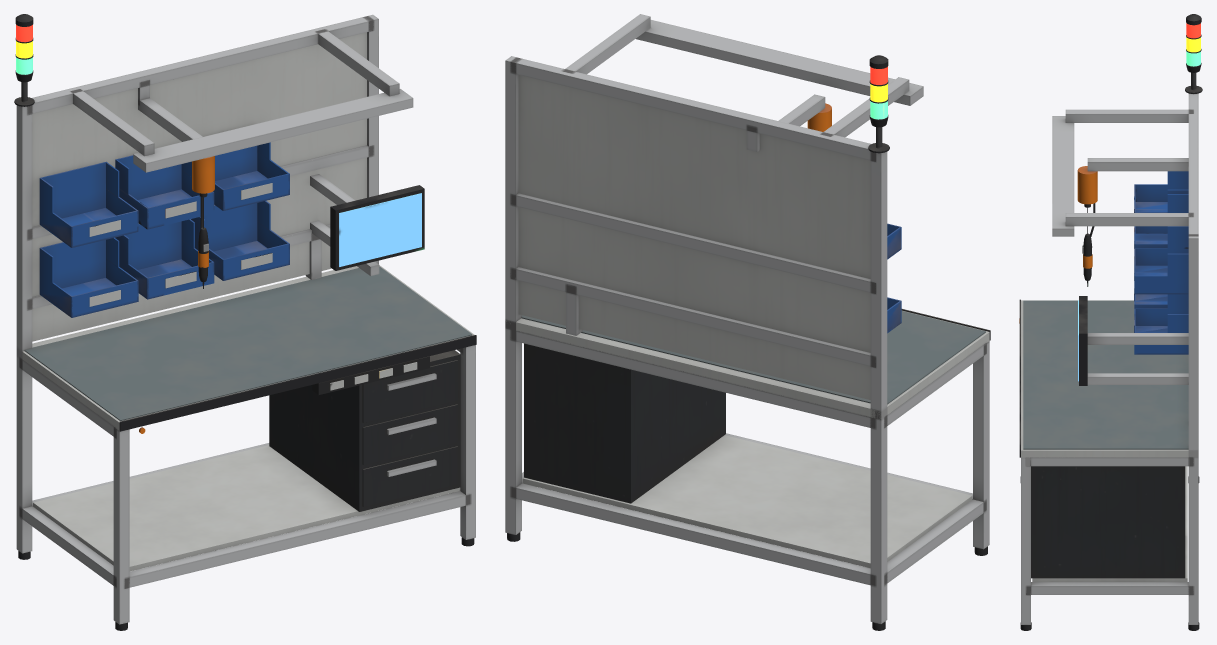
File: AssemblyBench.fbx
3 views of the same model, side by side, from view 1: azimuth 30°, elevation 25°; view 2: azimuth 150°, elevation 25°; view 3: azimuth 270°, elevation 25° (orthographic). The views are drawn at different scales.
Visible parts, largest first — view 1: Body_LOD0, Screwdriver_LOD0; view 2: Body_LOD0; view 3: Body_LOD0, Screwdriver_LOD0, Beacon_LOD0.
Boxes of the visible parts, bbox=[...] form: Body_LOD0: bbox=[16, 14, 476, 630]; Screwdriver_LOD0: bbox=[198, 197, 208, 288]; Body_LOD0: bbox=[505, 14, 990, 630]; Body_LOD0: bbox=[1019, 93, 1199, 630]; Screwdriver_LOD0: bbox=[1082, 203, 1095, 286]; Beacon_LOD0: bbox=[1185, 14, 1202, 93].
Size of what is drawn, in the model's own units: 1.62 by 2.32 by 0.8255.
Materials: 1 (1 with a texture image).
